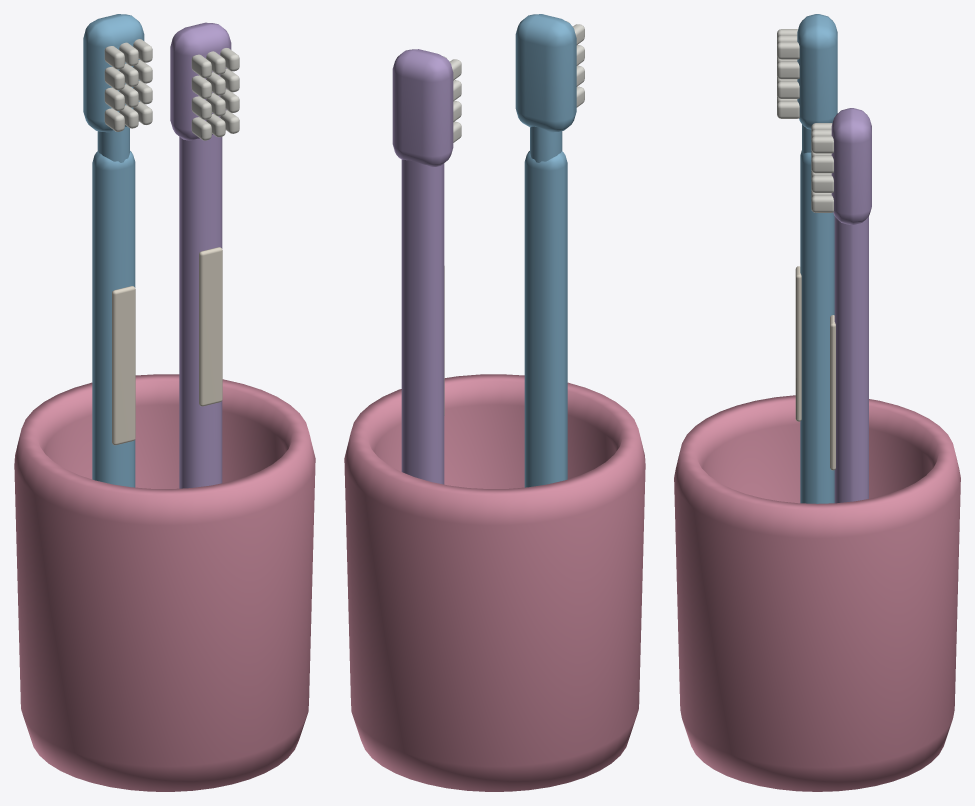
Rendered from lm_toothbrush_cup.glb.
3 renders of one model, left to right at view 1: azimuth 30°, elevation 25°; view 2: azimuth 150°, elevation 25°; view 3: azimuth 270°, elevation 25°, orthographic. The views are drawn at different scales.
Visible parts, largest first — view 1: prop; view 2: prop; view 3: prop.
Part boxes in pixels (box(x1,y1,x2,y2)): prop: box(14, 14, 315, 791); prop: box(344, 14, 645, 791); prop: box(674, 14, 960, 791).
Bounding box in the file's own units: 0.092 × 0.2485 × 0.092.
